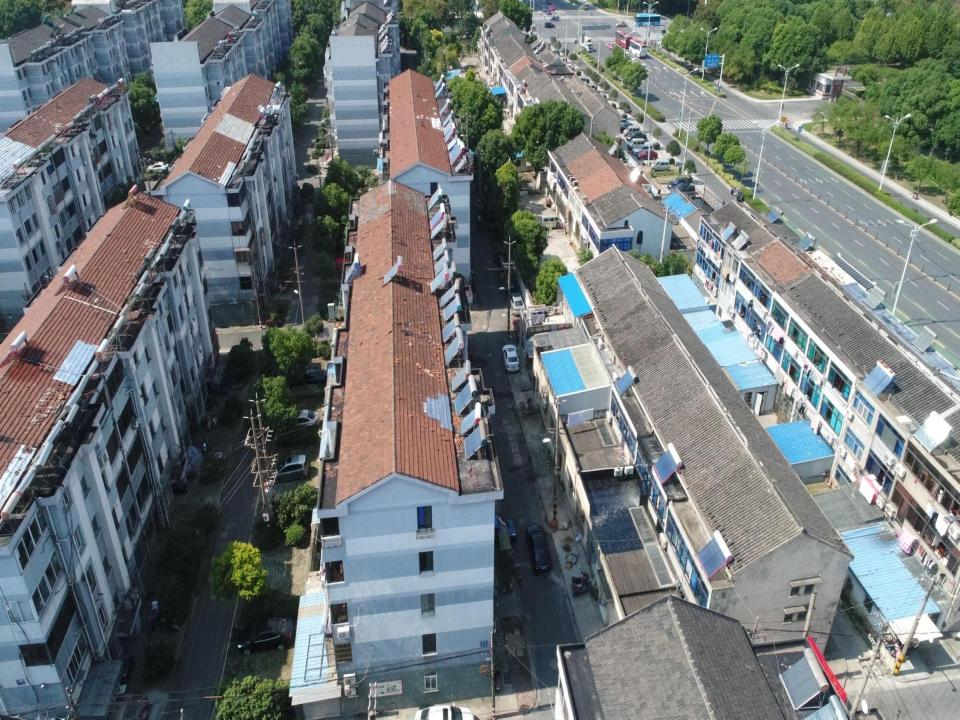bus: (628, 38, 647, 60), (633, 14, 661, 28), (614, 30, 633, 48)
car: (236, 615, 293, 656), (526, 523, 552, 573), (268, 455, 310, 481), (282, 408, 319, 430), (291, 367, 326, 388), (492, 513, 517, 538), (502, 343, 519, 372), (507, 291, 526, 315), (138, 695, 152, 720), (146, 160, 169, 175), (670, 182, 696, 195), (666, 177, 689, 190), (631, 144, 653, 156), (636, 149, 658, 160), (628, 132, 648, 142), (618, 122, 633, 134), (615, 117, 630, 127), (320, 117, 334, 127), (582, 83, 596, 91), (544, 21, 555, 29), (561, 64, 575, 70), (615, 21, 627, 27), (523, 23, 536, 28), (606, 43, 615, 49), (540, 5, 547, 12), (548, 4, 554, 11), (545, 9, 551, 15), (546, 0, 551, 4)
truck: (579, 35, 593, 52)
van: (539, 214, 562, 230), (650, 158, 669, 172), (627, 138, 645, 151), (334, 254, 347, 272), (623, 125, 640, 137), (572, 76, 587, 86)
